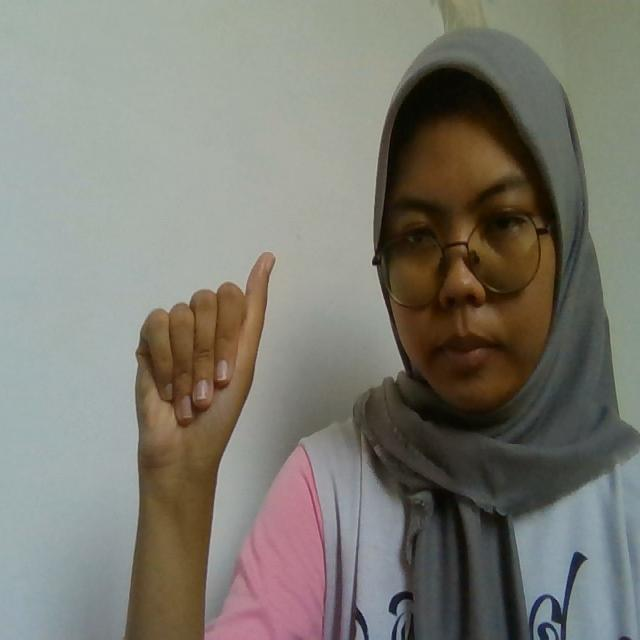A: (133, 250, 278, 458)
